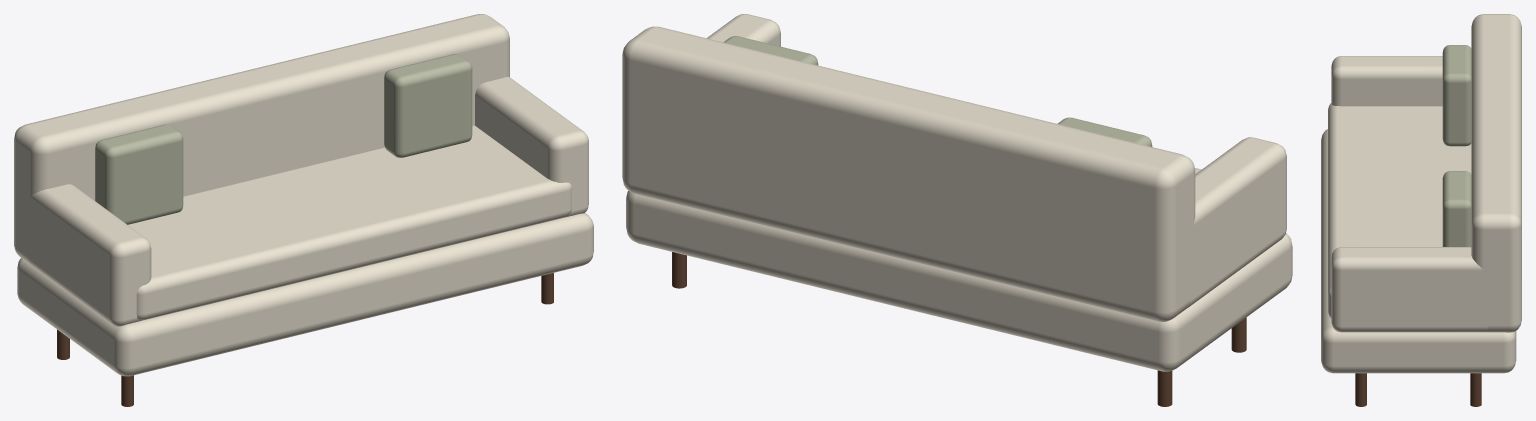
File: officeCurvedSofa.glb
3 views of the same model, side by side, from view 1: azimuth 30°, elevation 25°; view 2: azimuth 150°, elevation 25°; view 3: azimuth 270°, elevation 25° (orthographic). The views are drawn at different scales.
Bounding box in the file's own units: 2.15 × 0.955 × 0.875.
